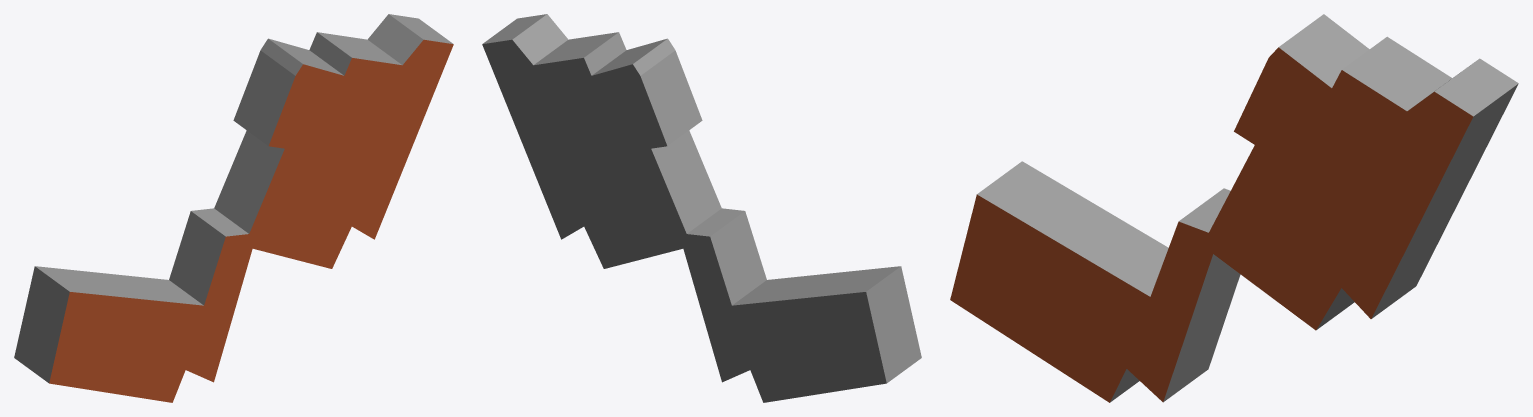
File: construction_2986_assumed_A_Casa_h6m.obj
3 views of the same model, side by side, from view 1: azimuth 30°, elevation 25°; view 2: azimuth 150°, elevation 25°; view 3: azimuth 330°, elevation 25° (orthographic). The views are drawn at different scales.
Visible parts, largest first — view 1: construction_2986_assumed_A_Casa; view 2: construction_2986_assumed_A_Casa; view 3: construction_2986_assumed_A_Casa.
Part boxes in pixels (bbox=[...]): construction_2986_assumed_A_Casa: bbox=[14, 14, 453, 402]; construction_2986_assumed_A_Casa: bbox=[482, 14, 921, 402]; construction_2986_assumed_A_Casa: bbox=[950, 14, 1518, 402].
Bounding box in the file's own units: 39.95 × 28.95 × 6.
